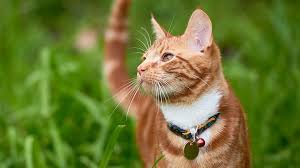cat: (112, 3, 260, 168)
